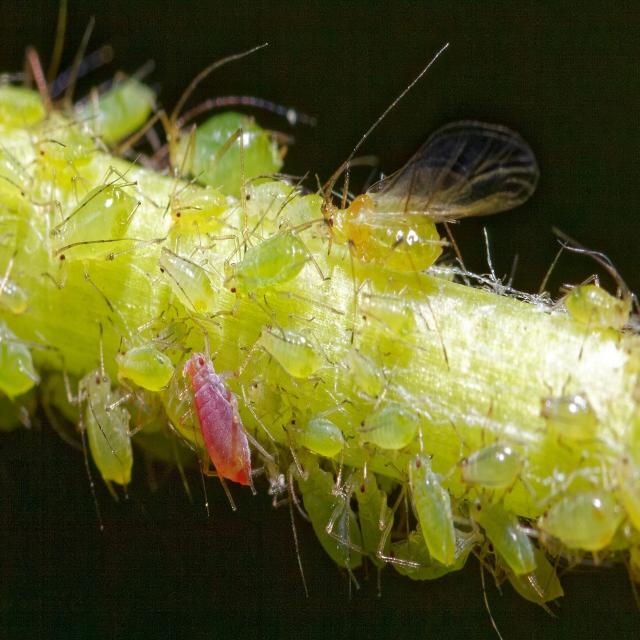Aphid-Grouped-: (15, 69, 578, 571)
Aphid-Grown-: (216, 213, 333, 316), (64, 363, 148, 502), (283, 446, 365, 582), (44, 176, 151, 278), (397, 446, 466, 580), (146, 235, 222, 332), (451, 418, 533, 501), (532, 365, 604, 459), (256, 310, 328, 392), (352, 393, 424, 465), (107, 335, 182, 398), (164, 171, 227, 239), (289, 400, 349, 462)
Aphid-Grown-have wings-: (316, 116, 542, 294)
